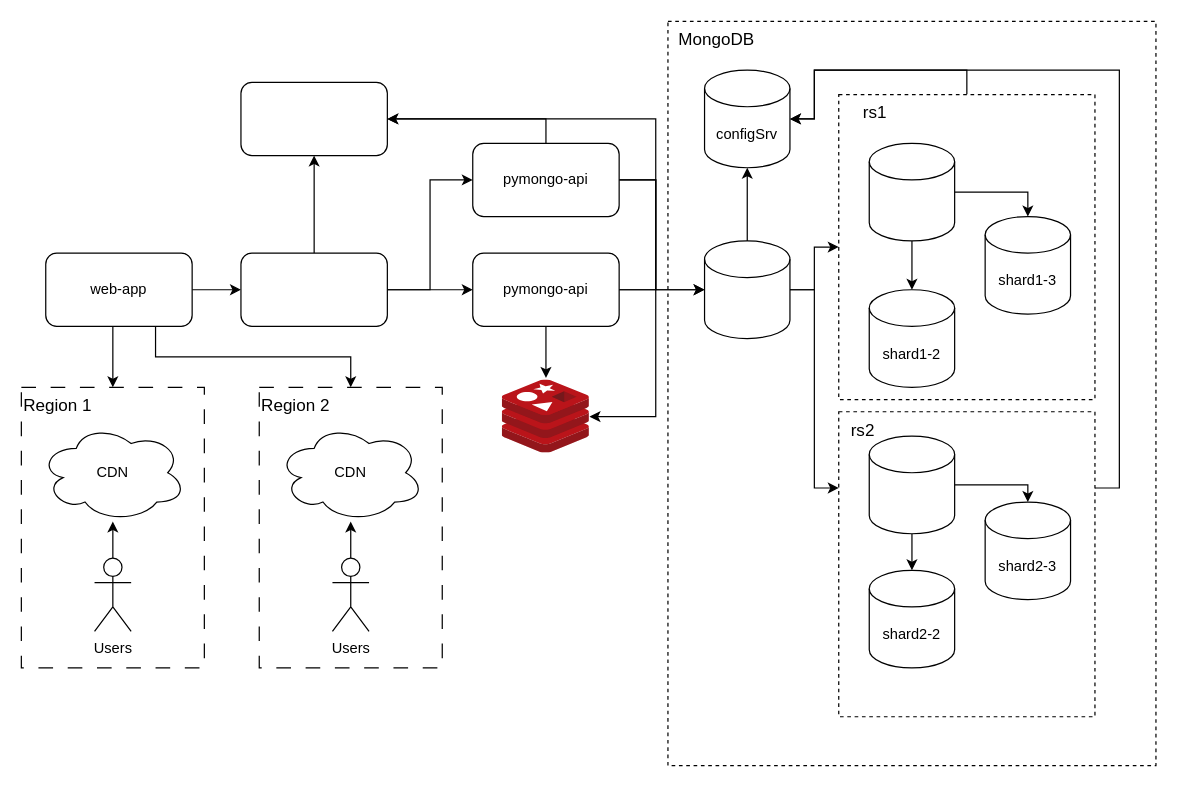
This 1177x787 diagram has some shape labels left out. Each missing label, with the centre of its shape:
"apisix" belongs at (x=313, y=289).
"consul" belongs at (x=313, y=118).
"redis" belongs at (x=545, y=416).
"router" belongs at (x=746, y=289).
"shard1-1" belongs at (x=911, y=191).
"shard2-1" belongs at (x=911, y=484).
